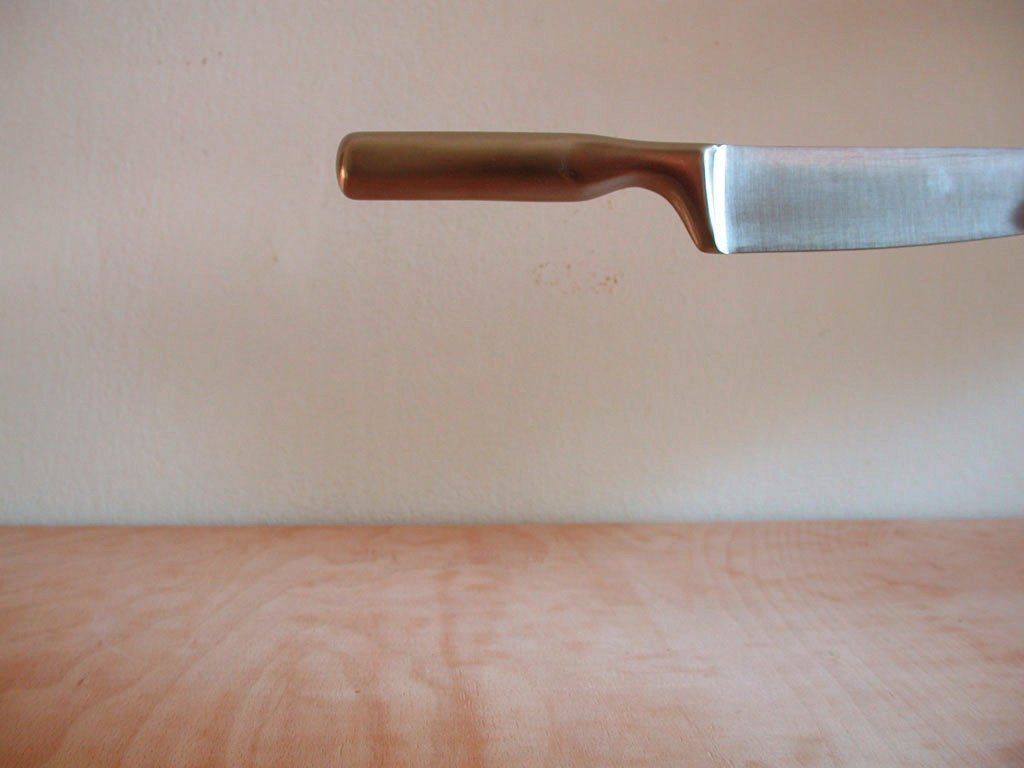knife: (334, 124, 1024, 257)
